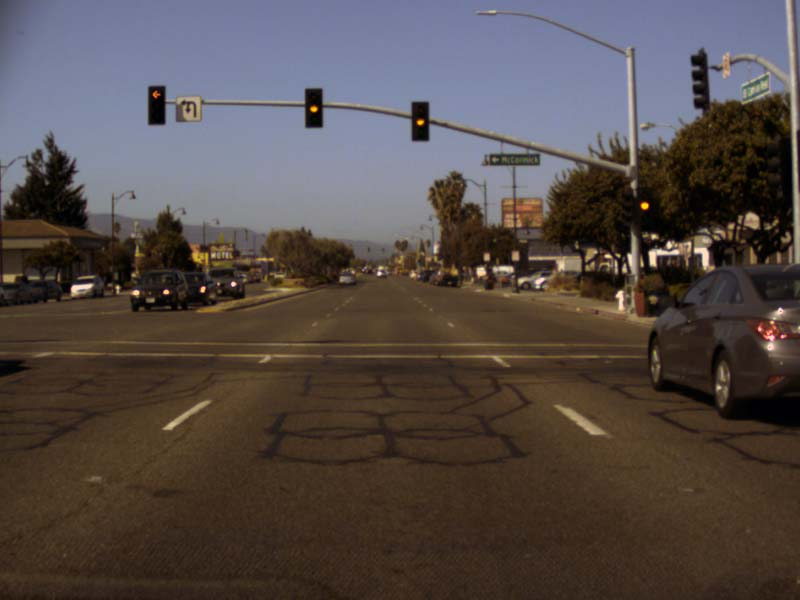Red: (147, 85, 165, 125)
Yellow: (304, 87, 323, 128), (411, 102, 429, 141), (636, 187, 652, 223)
